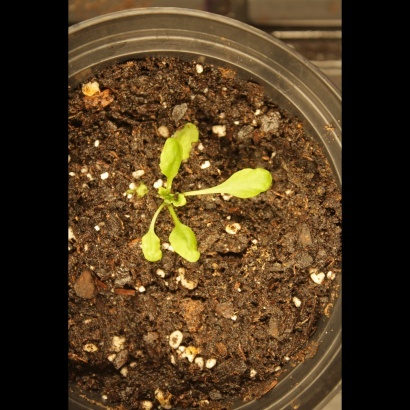leaf: (151, 113, 195, 186), (166, 219, 216, 271), (215, 165, 279, 205), (130, 222, 164, 268), (157, 182, 188, 213)
